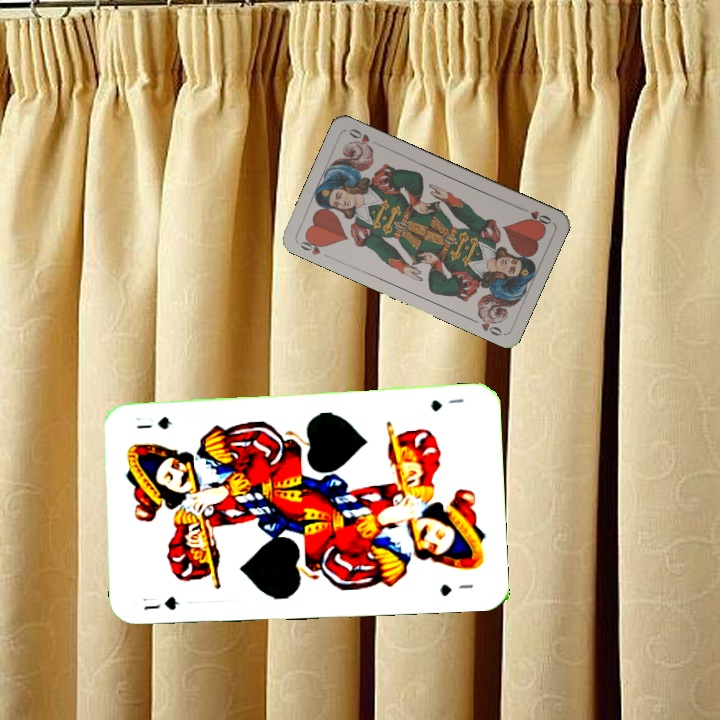GU: (139, 593, 182, 613), (427, 394, 466, 414)
HO: (294, 233, 333, 261), (516, 203, 554, 229)
